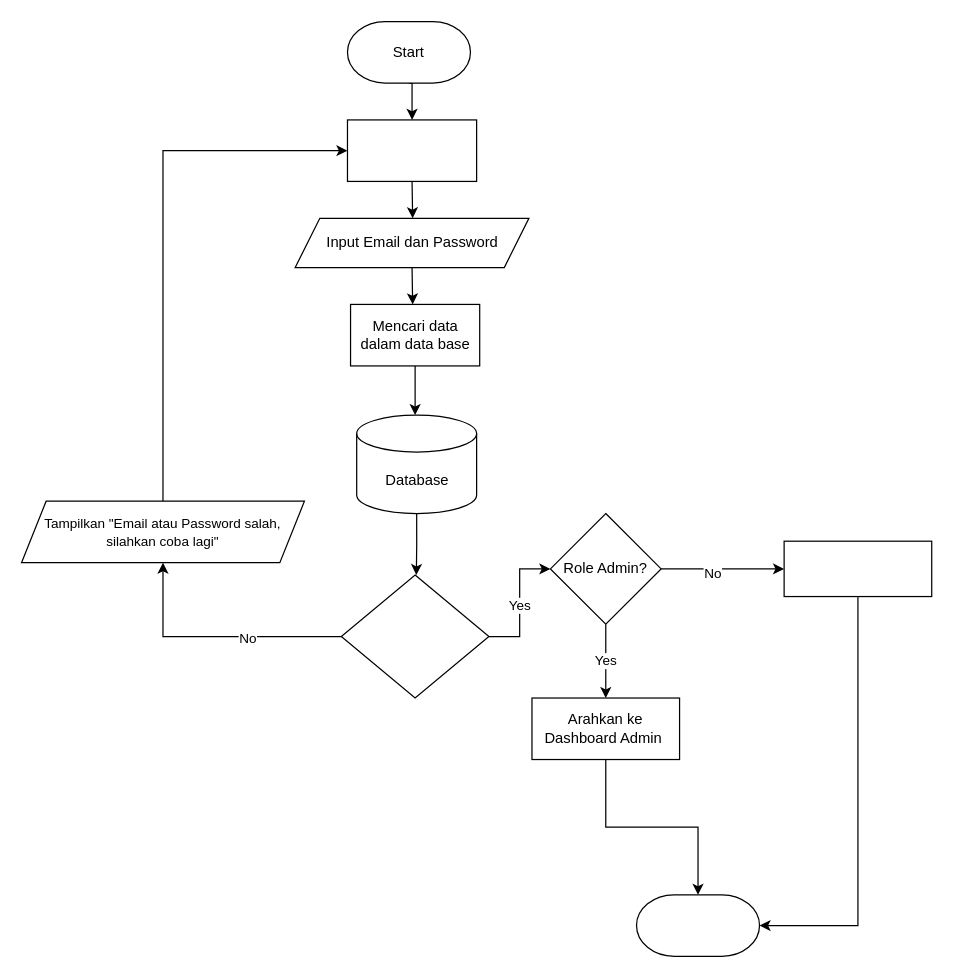
The diagram is 953 pixels wide and 978 high, and some of its shapes have lost their labels. Each missing label, with the centre of its shape:
Arahkan ke Dashboard User: point 857,568
C ek data: point 414,636
End: point 697,925
Halaman Login: point 411,150
